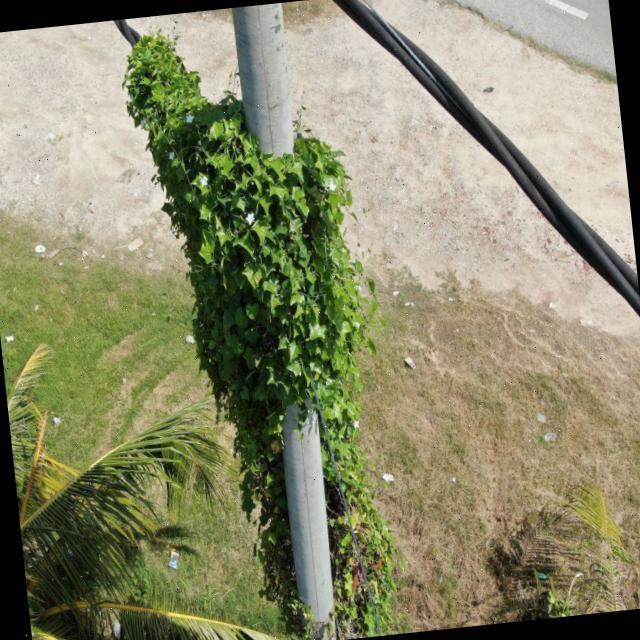critical vegetation: (113, 1, 410, 640)
